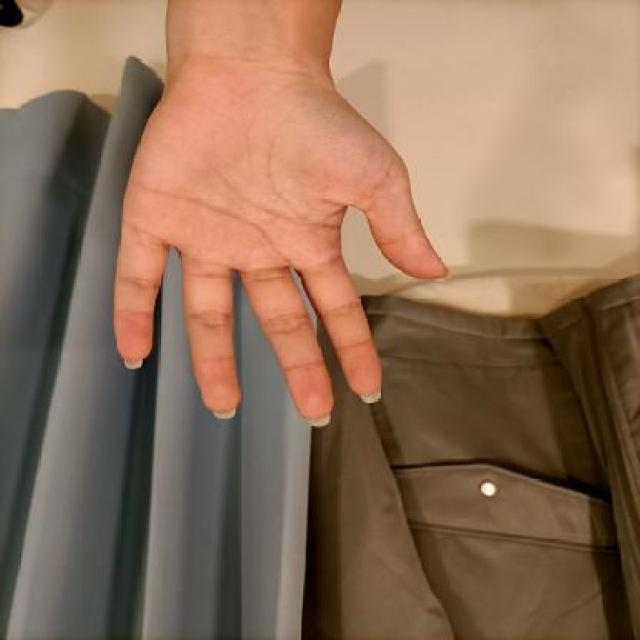bare_hand: (94, 56, 457, 436)
